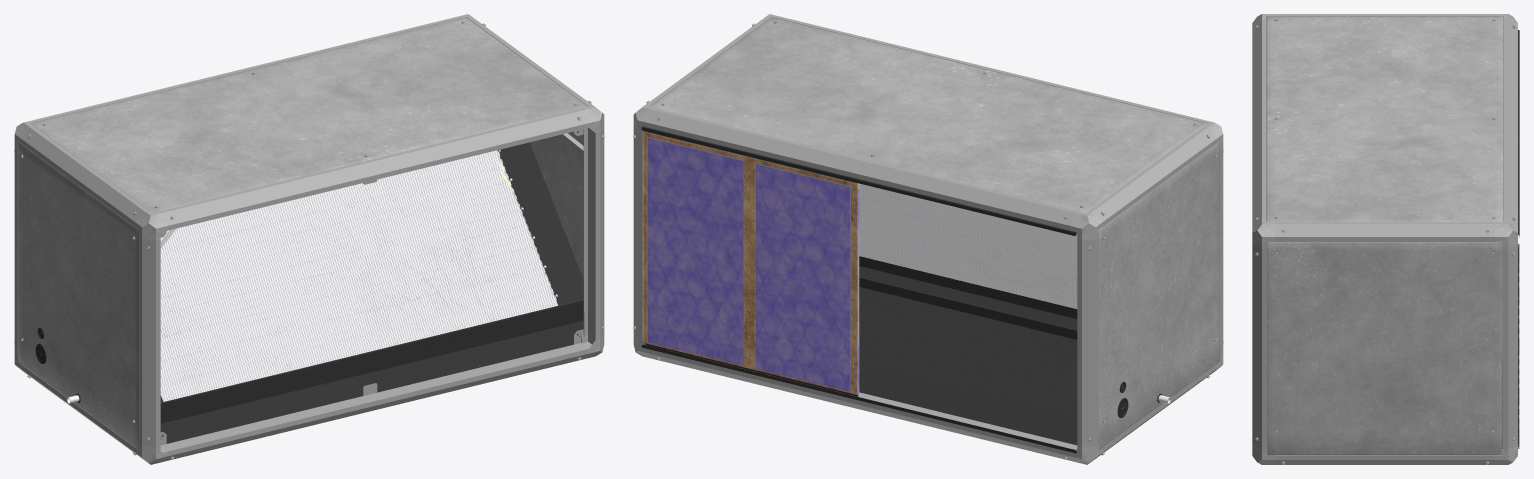
The model's file is TDxu20.gltf.
The picture shows the model from 3 angles, left to right: view 1: azimuth 30°, elevation 25°; view 2: azimuth 150°, elevation 25°; view 3: azimuth 270°, elevation 25°; orthographic projection. The views are drawn at different scales.
Visible parts, largest first — view 1: TDXP_Caja, Interior_Serpentin; view 2: TDXP_Caja, Interior_Serpentin, Filtros; view 3: TDXP_Caja, Interior_Serpentin.
Part boxes in pixels (x1,y1,x2,y2): TDXP_Caja: [14, 14, 604, 464]; Interior_Serpentin: [35, 133, 583, 443]; TDXP_Caja: [633, 14, 1223, 464]; Interior_Serpentin: [641, 126, 1170, 453]; Filtros: [642, 131, 859, 396]; TDXP_Caja: [1252, 14, 1517, 464]; Interior_Serpentin: [1502, 30, 1519, 448].
Size of the model in its own units: 0.8441 by 0.428 by 0.4269.
2 materials, 2 textured.
